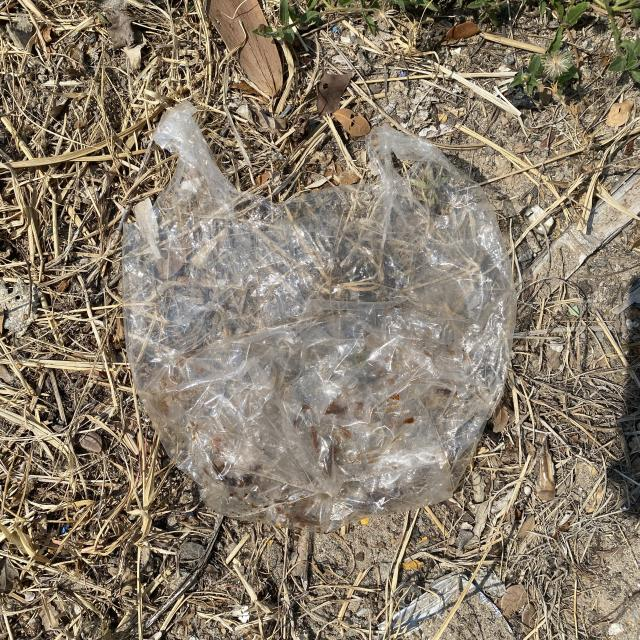Single-layer Plastic: (122, 104, 515, 531)
